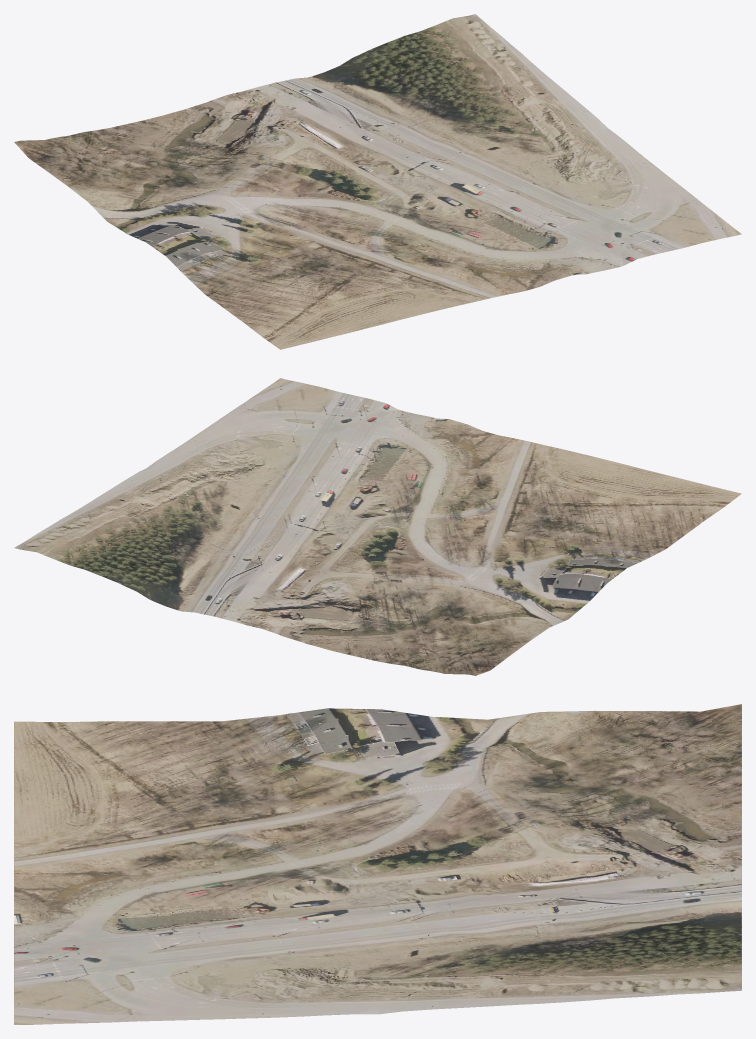
File: CM_Terrain_24490663_6819384.fbx
3 views of the same model, one above another, from view 1: azimuth 30°, elevation 25°; view 2: azimuth 150°, elevation 25°; view 3: azimuth 270°, elevation 25° (orthographic). The views are drawn at different scales.
Parts seen in each view (by area): view 1: CM_Terrain_24490663_6819384_LOD0; view 2: CM_Terrain_24490663_6819384_LOD0; view 3: CM_Terrain_24490663_6819384_LOD0.
Part boxes in pixels (x1,y1,x2,y2): CM_Terrain_24490663_6819384_LOD0: (14,14,741,349); CM_Terrain_24490663_6819384_LOD0: (14,378,741,675); CM_Terrain_24490663_6819384_LOD0: (14,704,741,1024).
Size of what is drawn, in the model's own units: 205 by 12.94 by 205.
